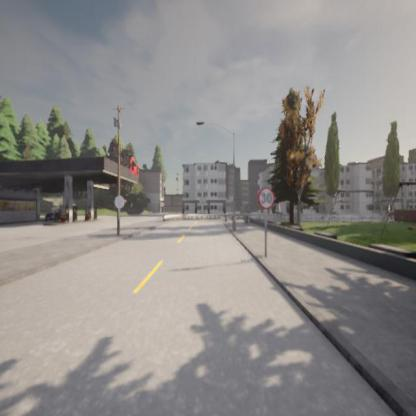traffic_sign_30: (258, 187, 274, 209)
